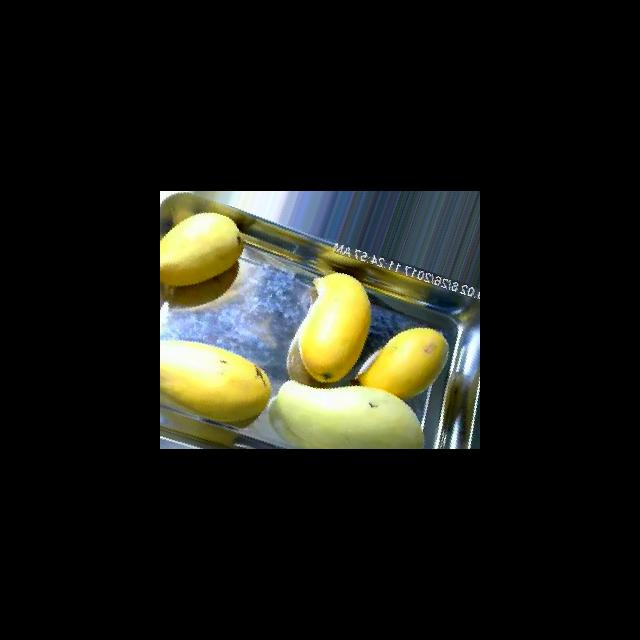mango: (271, 379, 424, 448), (160, 338, 272, 424), (297, 272, 371, 383), (354, 326, 449, 399), (160, 211, 244, 286)
